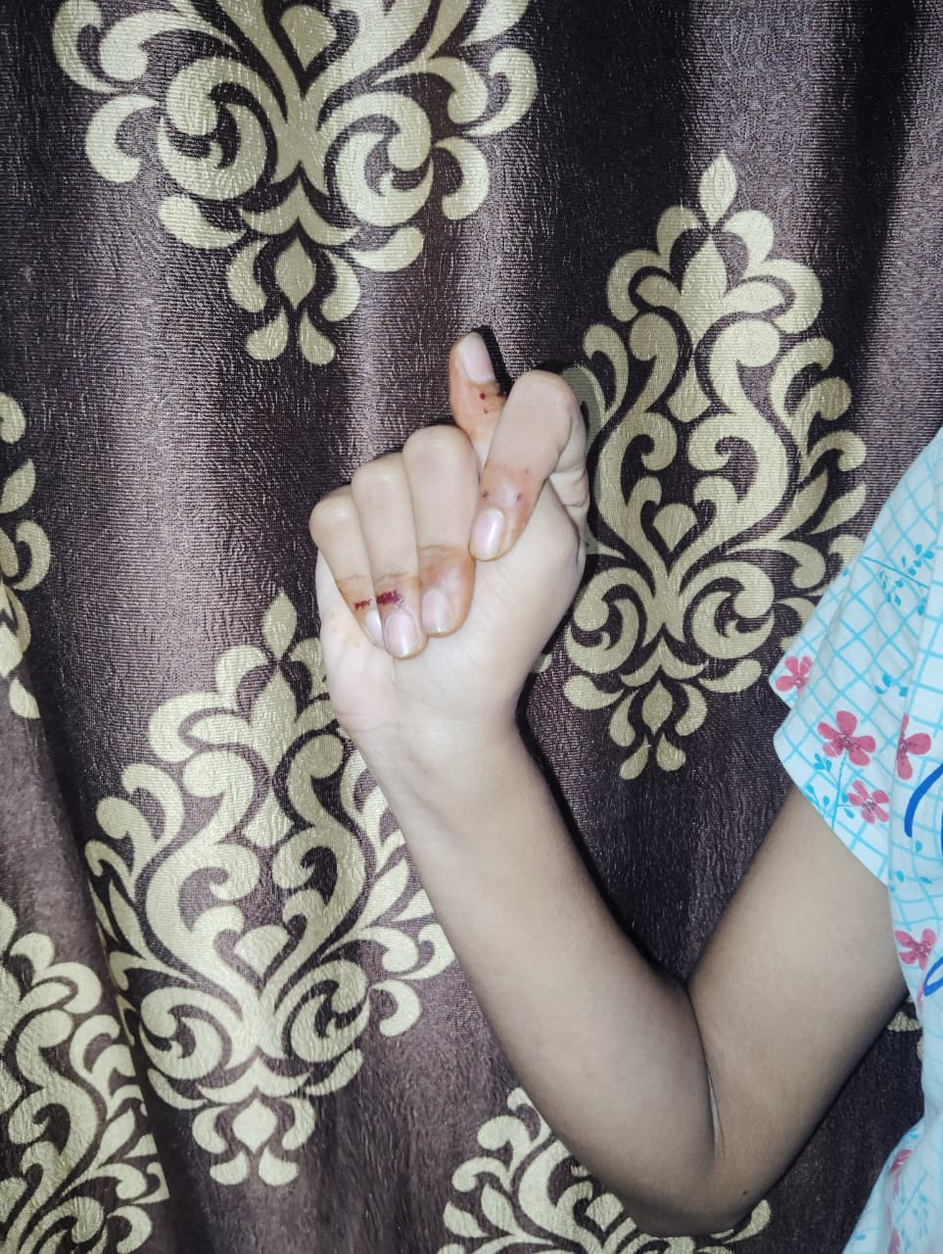T: (310, 331, 590, 740)
